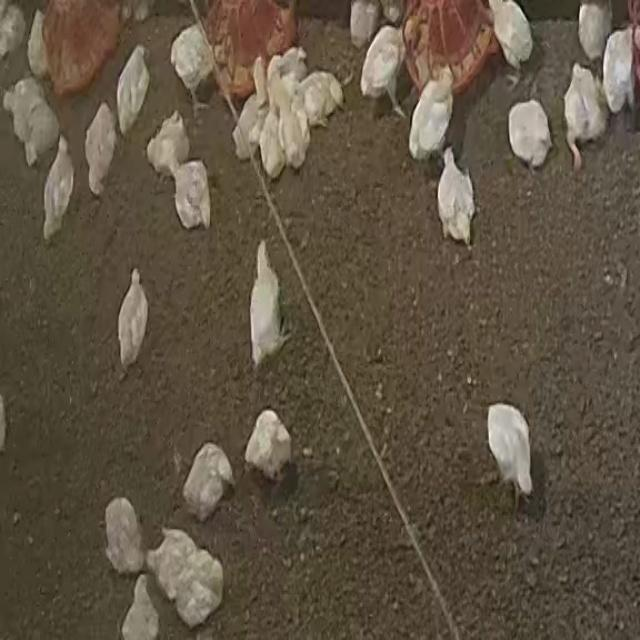chicken: (148, 528, 224, 628), (563, 54, 612, 161), (249, 240, 289, 371), (486, 403, 535, 509), (3, 78, 59, 166), (431, 146, 482, 242), (408, 73, 454, 162), (182, 442, 233, 522), (359, 24, 404, 111), (244, 409, 292, 486), (169, 21, 213, 103), (118, 267, 150, 371), (104, 497, 146, 575), (42, 138, 74, 240), (480, 0, 535, 59), (84, 104, 118, 196), (116, 44, 150, 134), (500, 105, 550, 164), (602, 26, 635, 112), (146, 112, 188, 178), (173, 160, 212, 231), (298, 70, 345, 128), (256, 88, 284, 178), (122, 577, 161, 640), (277, 88, 309, 164), (267, 46, 309, 102), (232, 93, 264, 163), (577, 0, 611, 62), (27, 10, 49, 79), (0, 3, 26, 58), (349, 1, 380, 46)
